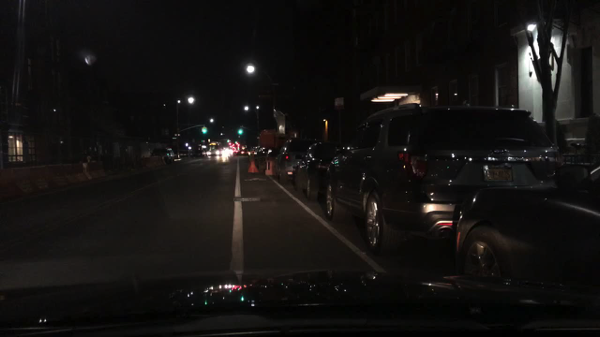car: (323, 103, 563, 259), (455, 167, 599, 285), (293, 141, 341, 203), (274, 138, 318, 186), (254, 148, 276, 164), (150, 148, 176, 157), (206, 147, 223, 156), (223, 147, 233, 156), (239, 149, 251, 156)
traffic light: (201, 127, 207, 134), (237, 129, 244, 135)
